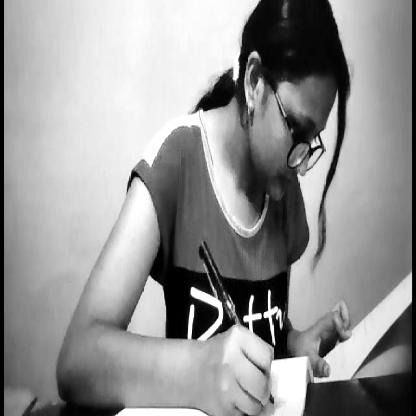Distracted: (242, 6, 336, 226)
